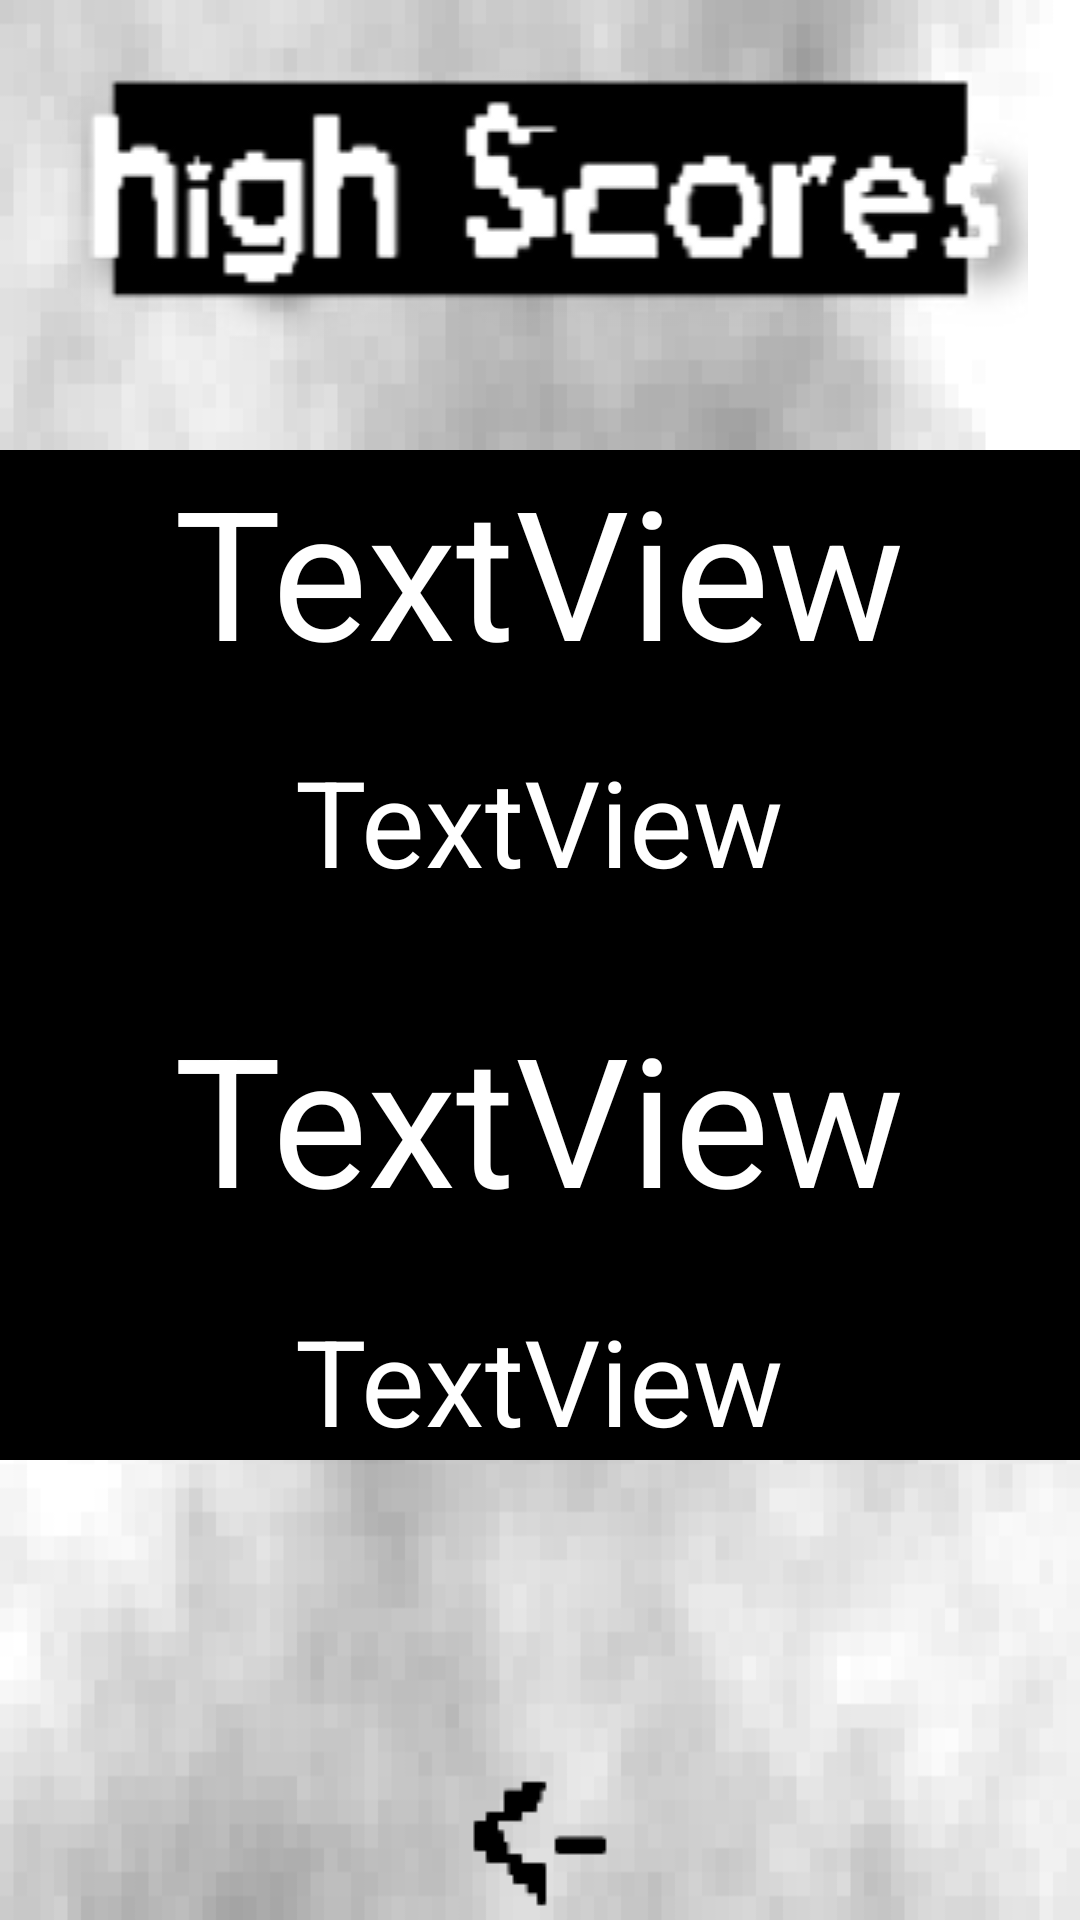

Icons on this 1080×1920 Android screen, each with its box as (x1, y1, x2, y2):
previousbutton: (473, 1781, 607, 1906)
